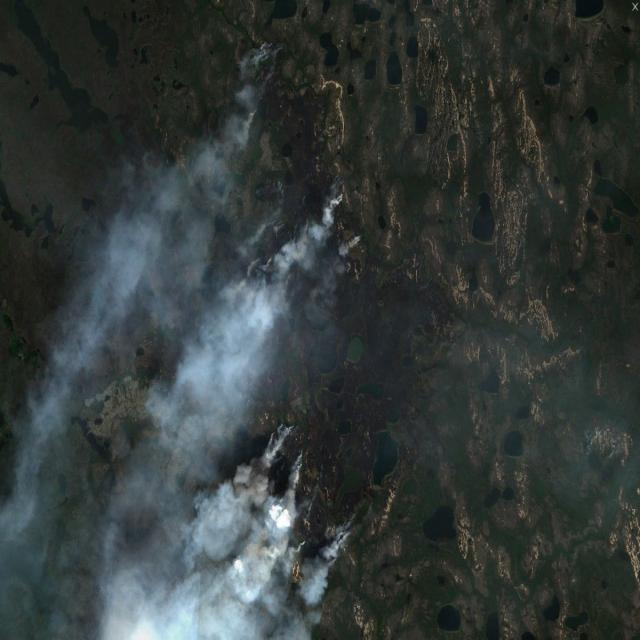fire: (231, 32, 362, 286), (226, 414, 366, 594)
